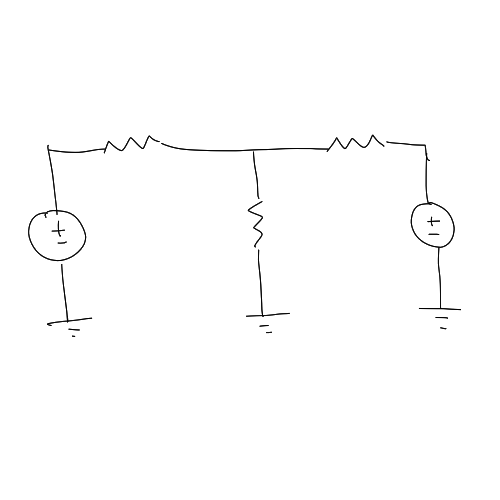dcvs: (27, 207, 90, 265), (408, 200, 466, 250)
gnd: (413, 305, 467, 338), (238, 309, 298, 337), (43, 314, 102, 341)
res: (316, 131, 397, 160), (100, 130, 171, 161), (244, 187, 271, 257)
